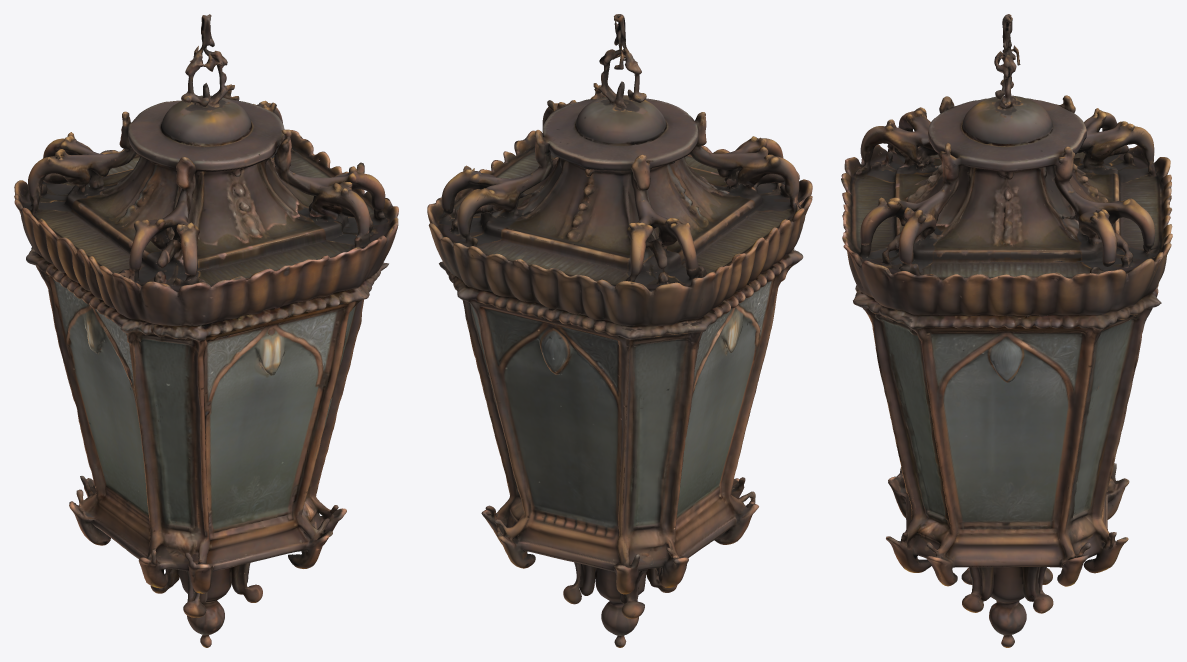
Rendered from Elegant_Vintage_Lante_0613141916_texture.fbx.
3 renders of one model, left to right at view 1: azimuth 30°, elevation 25°; view 2: azimuth 150°, elevation 25°; view 3: azimuth 270°, elevation 25°, orthographic.
Visible parts, largest first — view 1: Mesh1; view 2: Mesh1; view 3: Mesh1.
Boxes of the visible parts, bbox=[...] form: Mesh1: bbox=[14, 14, 398, 647]; Mesh1: bbox=[427, 14, 812, 647]; Mesh1: bbox=[841, 14, 1172, 647].
Size of the model in its own units: 91.97 by 194 by 92.01.
Materials: 1 (1 with a texture image).
